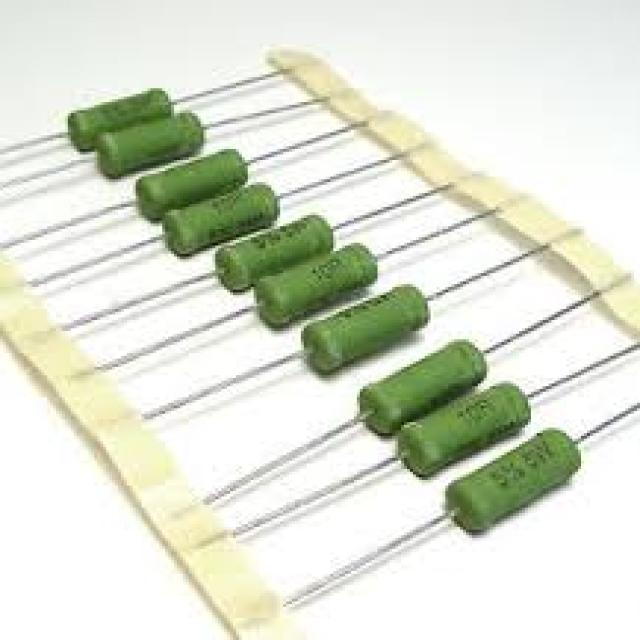Resistor: (447, 428, 583, 534), (398, 383, 529, 478), (358, 340, 487, 435), (304, 284, 427, 372), (256, 244, 375, 327), (218, 214, 335, 293), (163, 183, 278, 258), (137, 148, 250, 221), (97, 113, 203, 179), (68, 89, 174, 151)
